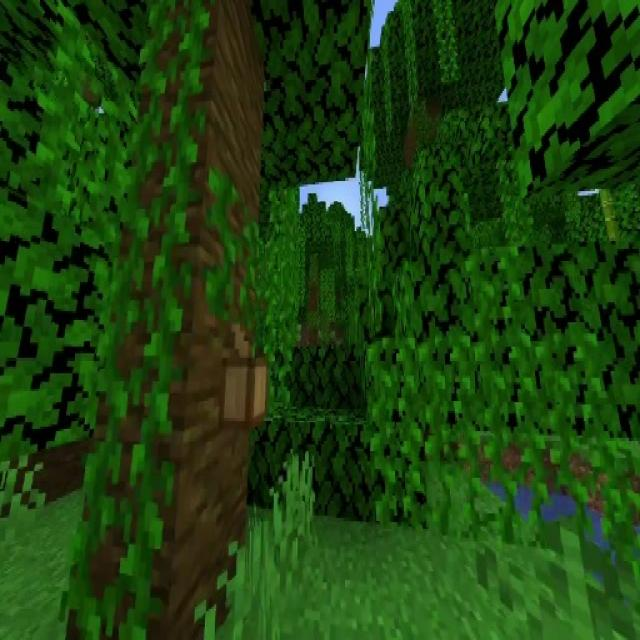jungle_log: (85, 10, 272, 632)
